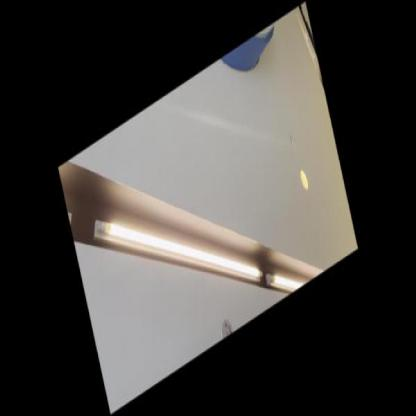light_on: (86, 127, 264, 379), (267, 253, 305, 305)
